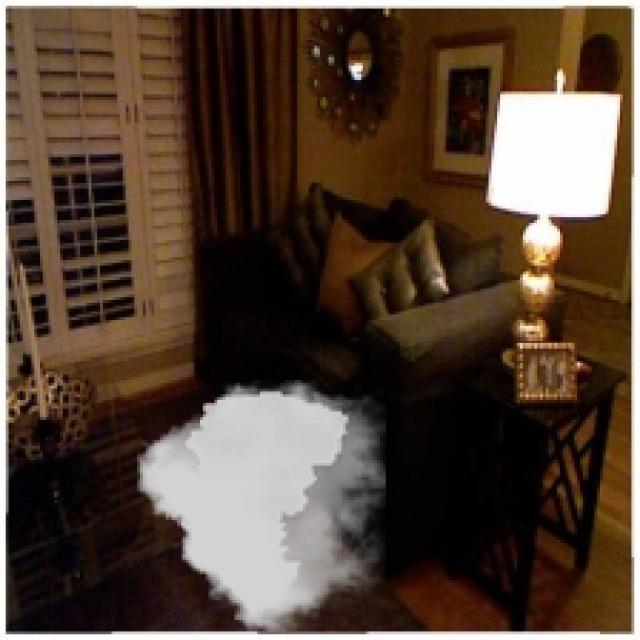Smoke: (137, 379, 386, 632)
